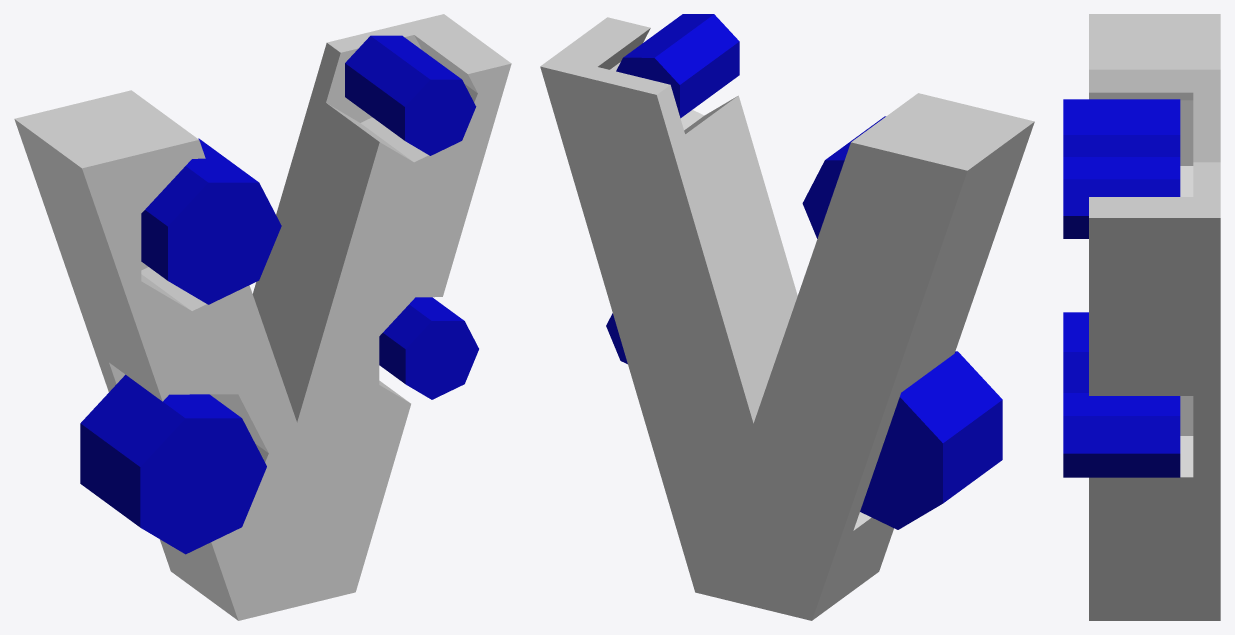
Rendered from Ch_Lite_V_01.fbx.
3 views of the same model, side by side, from view 1: azimuth 30°, elevation 25°; view 2: azimuth 150°, elevation 25°; view 3: azimuth 270°, elevation 25° (orthographic). The views are drawn at different scales.
Parts seen in each view (by area): view 1: sphere1; view 2: sphere1; view 3: sphere1.
Boxes of the visible parts, x1=… form: sphere1: x1=14, y1=14, x2=511, y2=620; sphere1: x1=540, y1=14, x2=1034, y2=620; sphere1: x1=1063, y1=14, x2=1220, y2=620.
Bounding box in the file's own units: 0.733 × 0.8269 × 0.2387.
